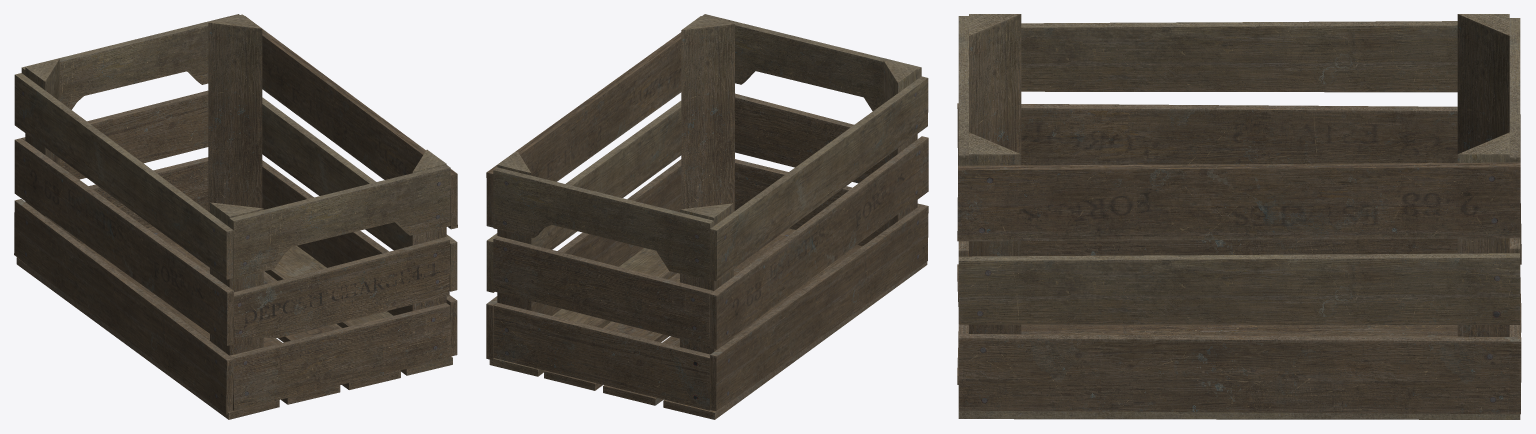
3 renders of one model, left to right at view 1: azimuth 30°, elevation 25°; view 2: azimuth 150°, elevation 25°; view 3: azimuth 270°, elevation 25°, orthographic. The views are drawn at different scales.
Visible parts, largest first — view 1: SM_box_02_LOD0; view 2: SM_box_02_LOD0; view 3: SM_box_02_LOD0.
Part boxes in pixels (box(x1,y1,x2,y2)): SM_box_02_LOD0: box(14, 14, 457, 419); SM_box_02_LOD0: box(486, 14, 928, 419); SM_box_02_LOD0: box(957, 14, 1521, 419).
Bounding box in the file's own units: 86.32 × 138 × 71.03.
Materials: 1 (1 with a texture image).
